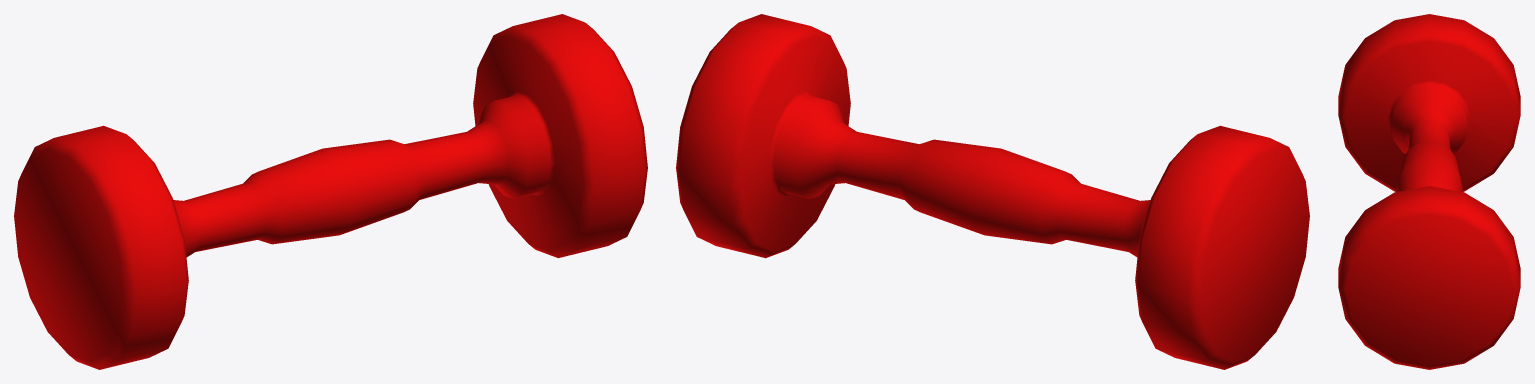
File: dumbbells_grp.fbx
3 views of the same model, side by side, from view 1: azimuth 30°, elevation 25°; view 2: azimuth 150°, elevation 25°; view 3: azimuth 270°, elevation 25° (orthographic). The views are drawn at different scales.
Visible parts, largest first — view 1: dumbbell_1; view 2: dumbbell_1; view 3: dumbbell_1.
Boxes of the visible parts, x1,y1,x2,y2 form: dumbbell_1: (14,14,647,369); dumbbell_1: (676,14,1309,369); dumbbell_1: (1338,14,1520,369).
Size of the model in its own units: 33.16 by 13 by 12.99.
